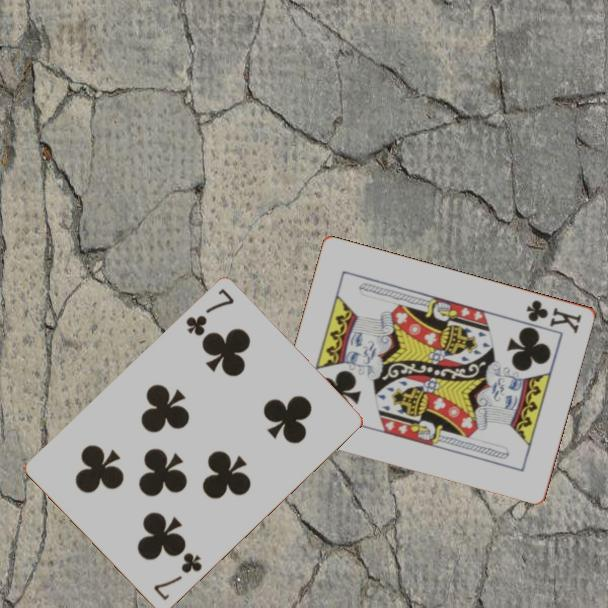c07: (150, 549, 205, 604), (182, 285, 237, 339)
c13: (523, 296, 585, 336)
